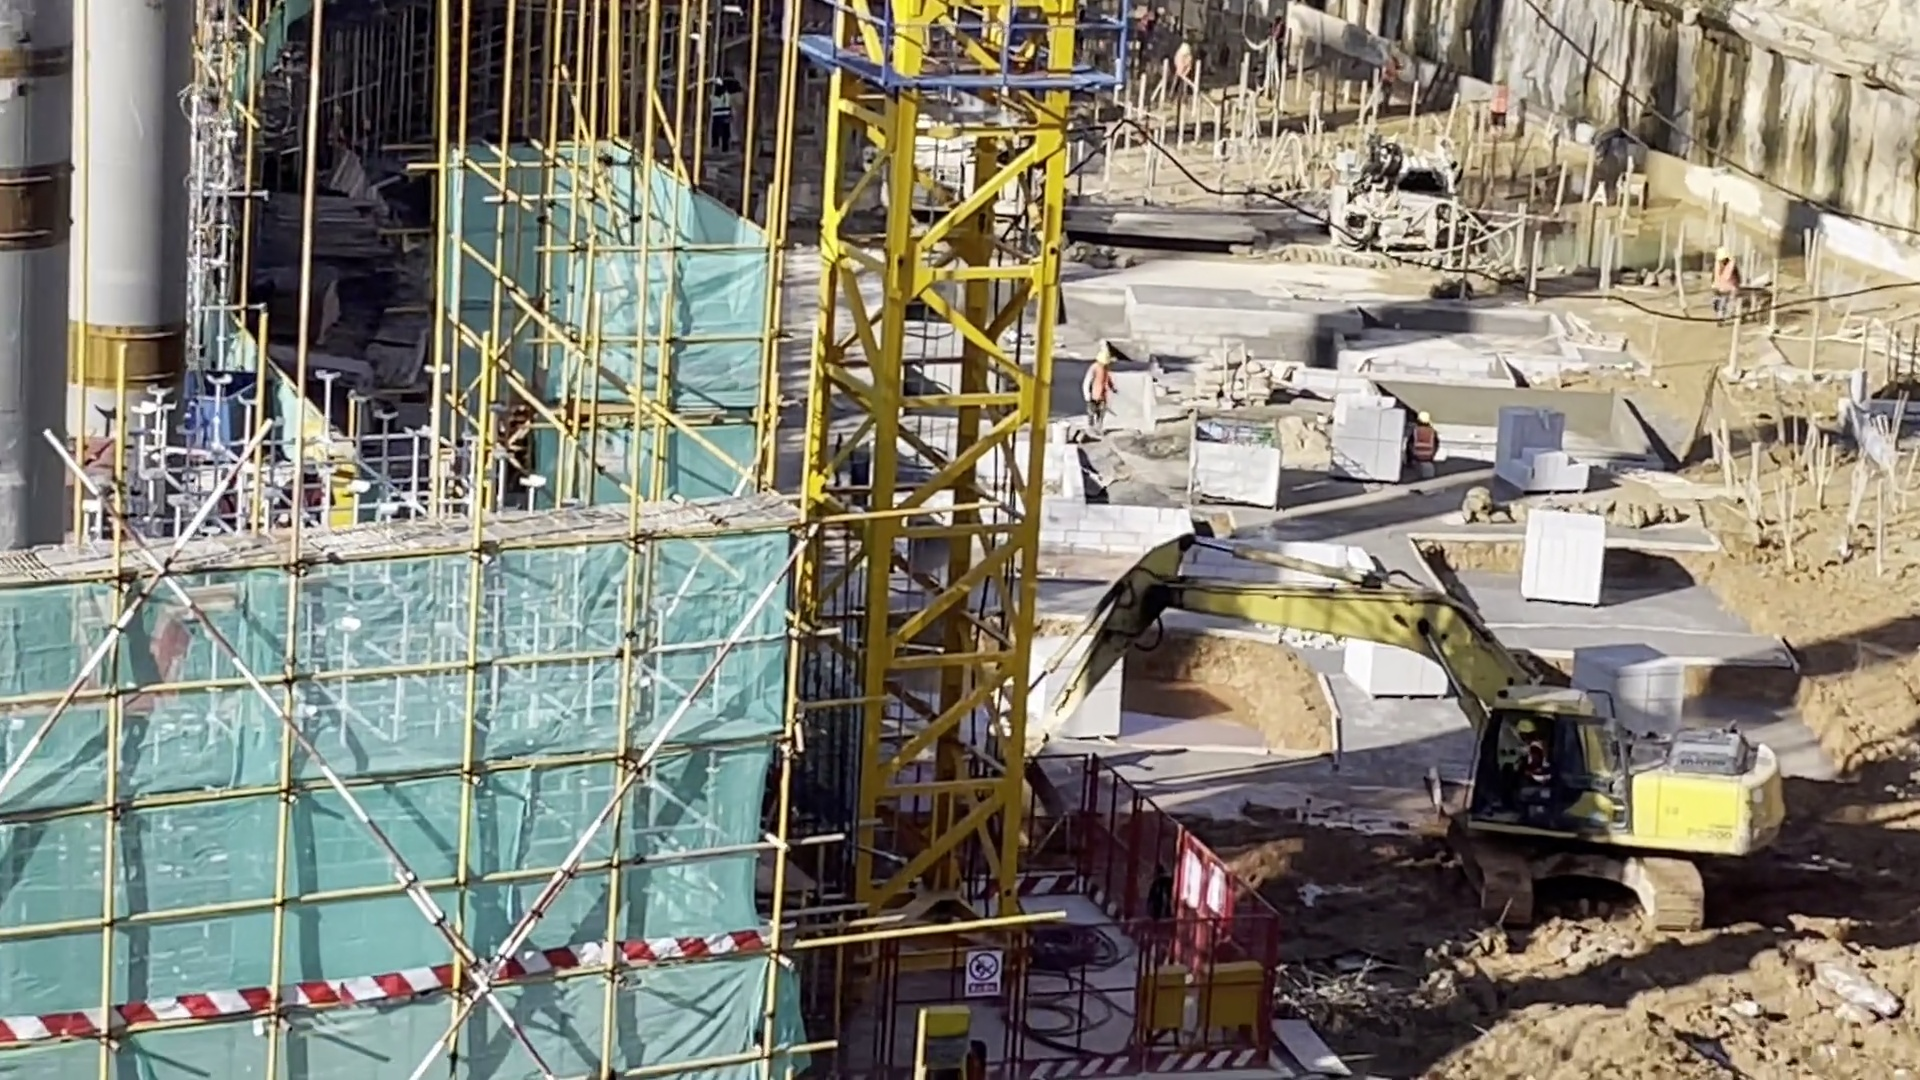helmet: (1091, 351, 1107, 366), (1714, 251, 1729, 265), (1418, 412, 1433, 422), (712, 78, 725, 87), (1180, 44, 1189, 54), (1496, 76, 1506, 85)
person: (1506, 720, 1552, 800), (1708, 249, 1745, 327), (1081, 349, 1115, 431), (1404, 412, 1443, 481), (703, 75, 730, 156), (1169, 42, 1196, 112), (1374, 52, 1404, 113), (1134, 7, 1162, 70), (1487, 74, 1507, 134), (1267, 10, 1289, 65)
vest: (1521, 745, 1553, 785), (1088, 368, 1110, 410), (1717, 264, 1743, 294), (1414, 425, 1436, 456), (708, 94, 726, 123), (1381, 61, 1397, 87), (1493, 85, 1506, 110)
